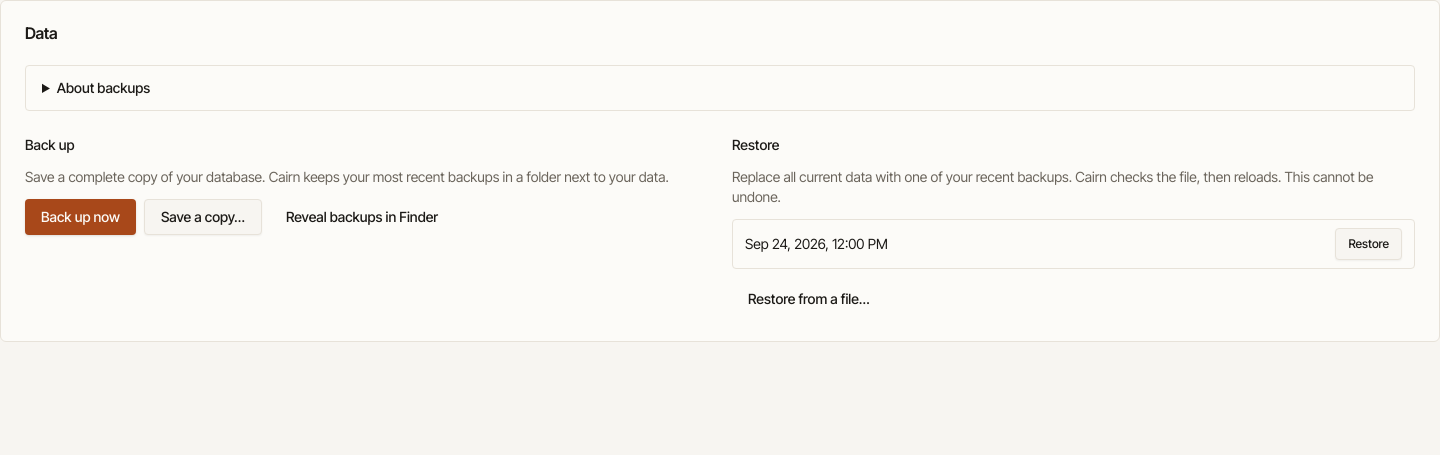
Test: DataSection × a listing failure (v1.8.0 H3, chip (a)) › a listing failure leaves an already-loaded list visible, with the note beside it
expect the number of list items with test id "backup-row" is 1: met, box [733,220,1414,268]
Click the button "Back up now".
click(80, 217)  # box [25,199,136,235]
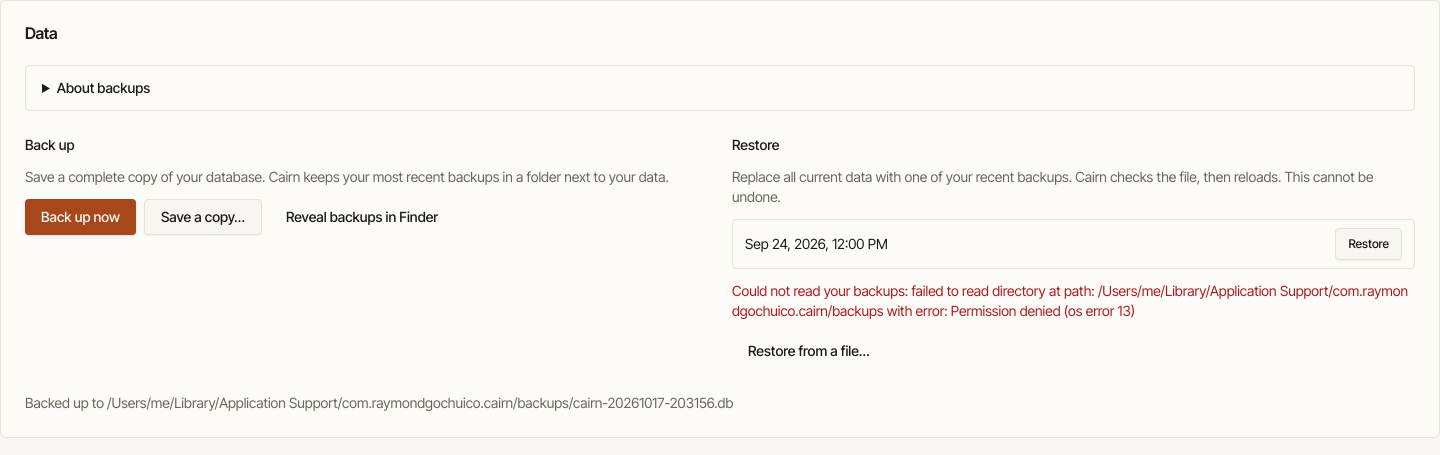
expect the number of list items with test id "backup-row" is 1: met, box [733,220,1414,268]
expect the 1st message shows "Could not read your backups:": met, box [732,282,1408,319]
